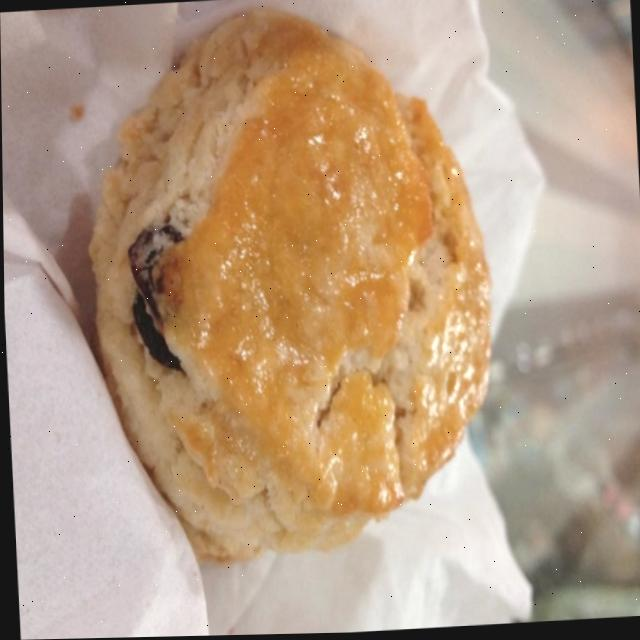面包点心: (46, 0, 534, 598)
